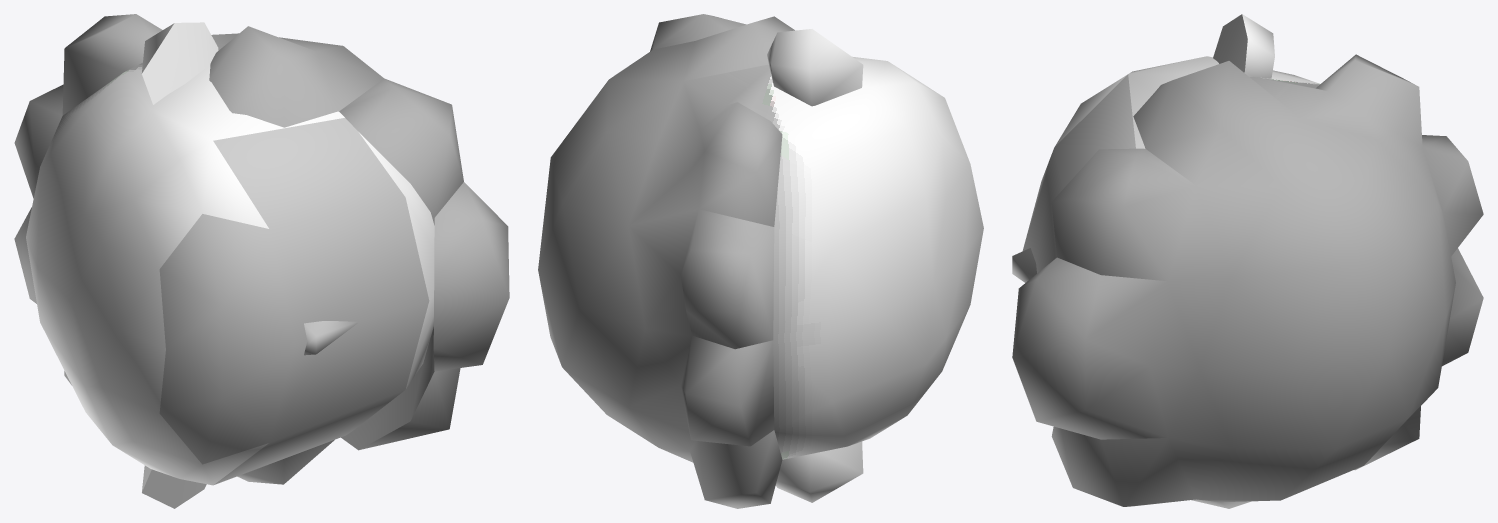
File: boy15a.dae
3 renders of one model, left to right at view 1: azimuth 30°, elevation 25°; view 2: azimuth 150°, elevation 25°; view 3: azimuth 270°, elevation 25°, orthographic. The views are drawn at different scales.
Visible parts, largest first — view 1: vsn_mesh_0_, vsn_mesh_1_, vsn_mesh_2_; view 2: vsn_mesh_0_; view 3: vsn_mesh_0_, vsn_mesh_1_.
Boxes of the visible parts, x1,y1,x2,y2 form: vsn_mesh_0_: (14,14,509,508); vsn_mesh_1_: (213,118,429,484); vsn_mesh_2_: (159,214,295,464); vsn_mesh_0_: (538,14,983,508); vsn_mesh_0_: (1012,14,1483,508); vsn_mesh_1_: (1012,74,1135,282).
Bounding box in the file's own units: 21.17 × 26.71 × 23.87.
